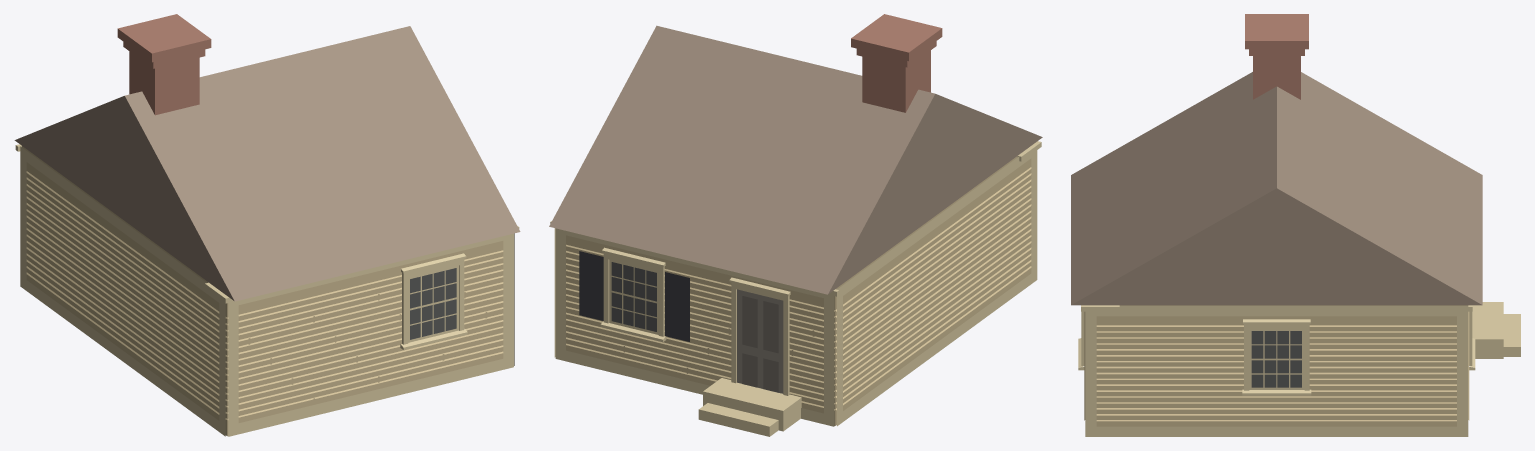
The model's file is recon_1835_blk_washington_franklin_d3_06__inferred_1835.glb.
The picture shows the model from 3 angles, left to right: view 1: azimuth 30°, elevation 25°; view 2: azimuth 150°, elevation 25°; view 3: azimuth 270°, elevation 25°; orthographic projection. The views are drawn at different scales.
Parts seen in each view (by area): view 1: recon_1835_blk_washington_franklin_d3_06__inferred_1835; view 2: recon_1835_blk_washington_franklin_d3_06__inferred_1835; view 3: recon_1835_blk_washington_franklin_d3_06__inferred_1835.
Part boxes in pixels (box(x1,y1,x2,y2)): recon_1835_blk_washington_franklin_d3_06__inferred_1835: box(14, 14, 520, 436); recon_1835_blk_washington_franklin_d3_06__inferred_1835: box(549, 14, 1042, 436); recon_1835_blk_washington_franklin_d3_06__inferred_1835: box(1071, 14, 1520, 436).
Bounding box in the file's own units: 5.59 × 5.73 × 7.87.
